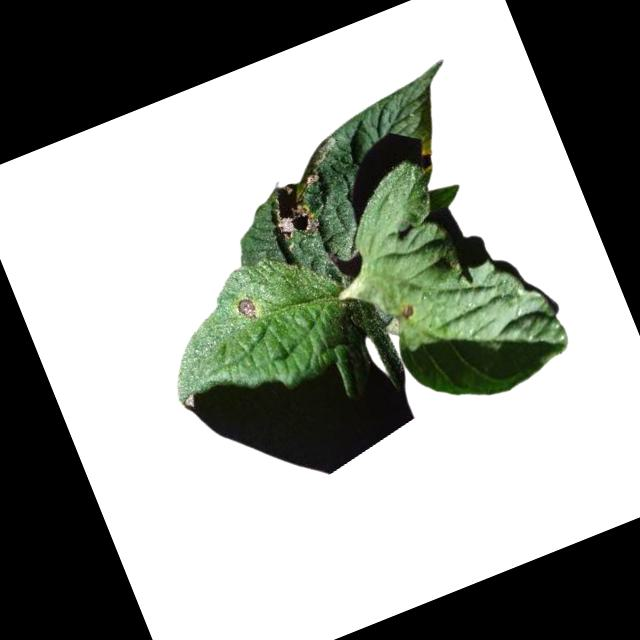Early_blight: (262, 174, 324, 244), (235, 295, 258, 321), (398, 300, 416, 318)
